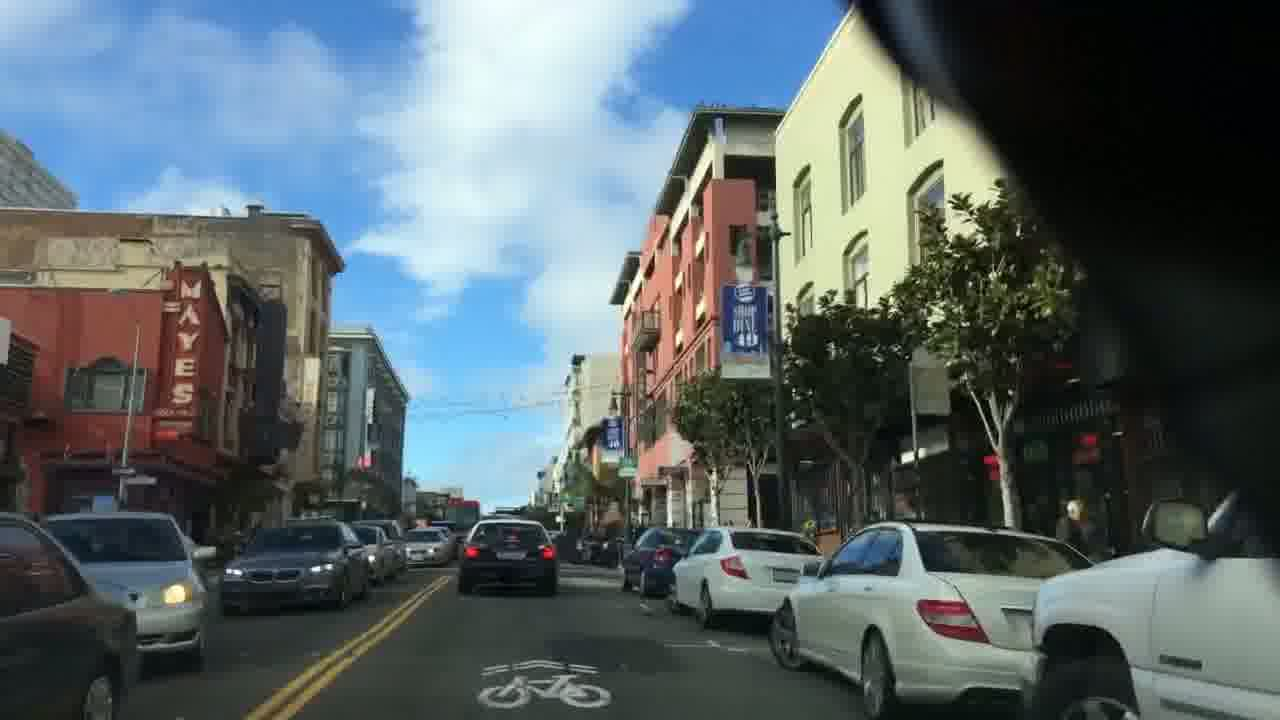car: (767, 519, 1096, 718), (1015, 485, 1280, 720), (0, 510, 138, 720), (39, 509, 217, 671), (665, 526, 824, 630), (219, 518, 368, 616), (457, 519, 558, 594), (622, 526, 700, 597), (401, 527, 450, 565)
